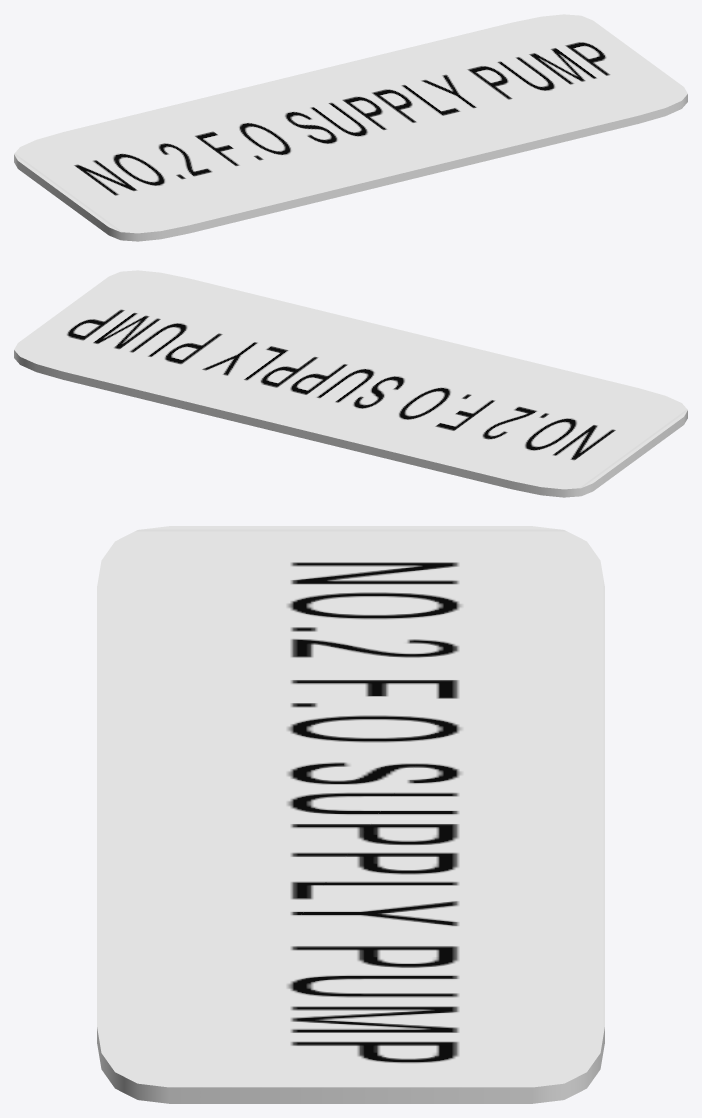
The model's file is label_fo-pump2.fbx.
3 views of the same model, one above another, from view 1: azimuth 30°, elevation 25°; view 2: azimuth 150°, elevation 25°; view 3: azimuth 270°, elevation 25° (orthographic). The views are drawn at different scales.
Parts seen in each view (by area): view 1: label_fo-pump2; view 2: label_fo-pump2; view 3: label_fo-pump2.
Boxes of the visible parts, box(x1,y1,x2,y2) form: label_fo-pump2: box(14, 14, 687, 241); label_fo-pump2: box(14, 270, 687, 497); label_fo-pump2: box(97, 526, 604, 1103).
Size of the model in its own units: 3.68 by 0.05 by 1.41.
Materials: 1 (1 with a texture image).
